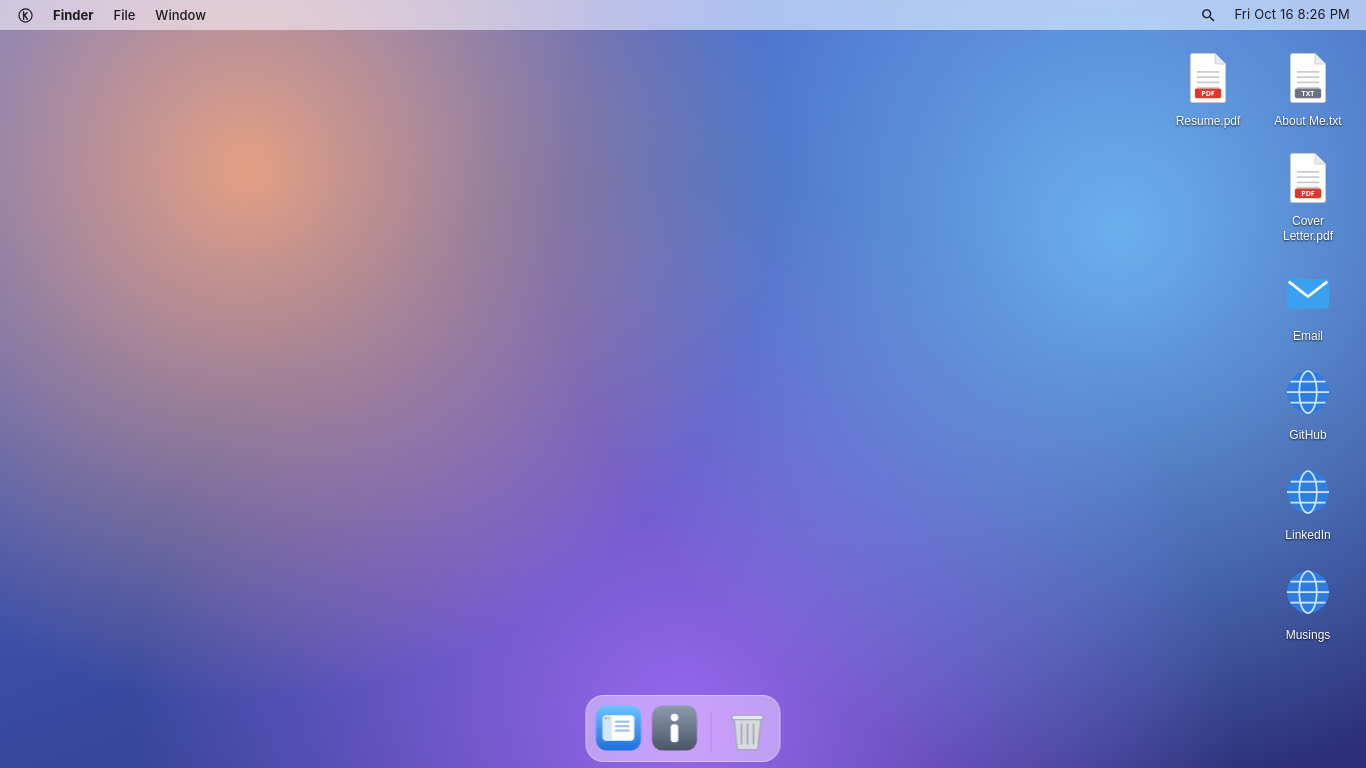
Test: DesktopShell › reports a failed reset
Click the button named "System menu": coordinates (26, 15) 8,3 -> 43,27
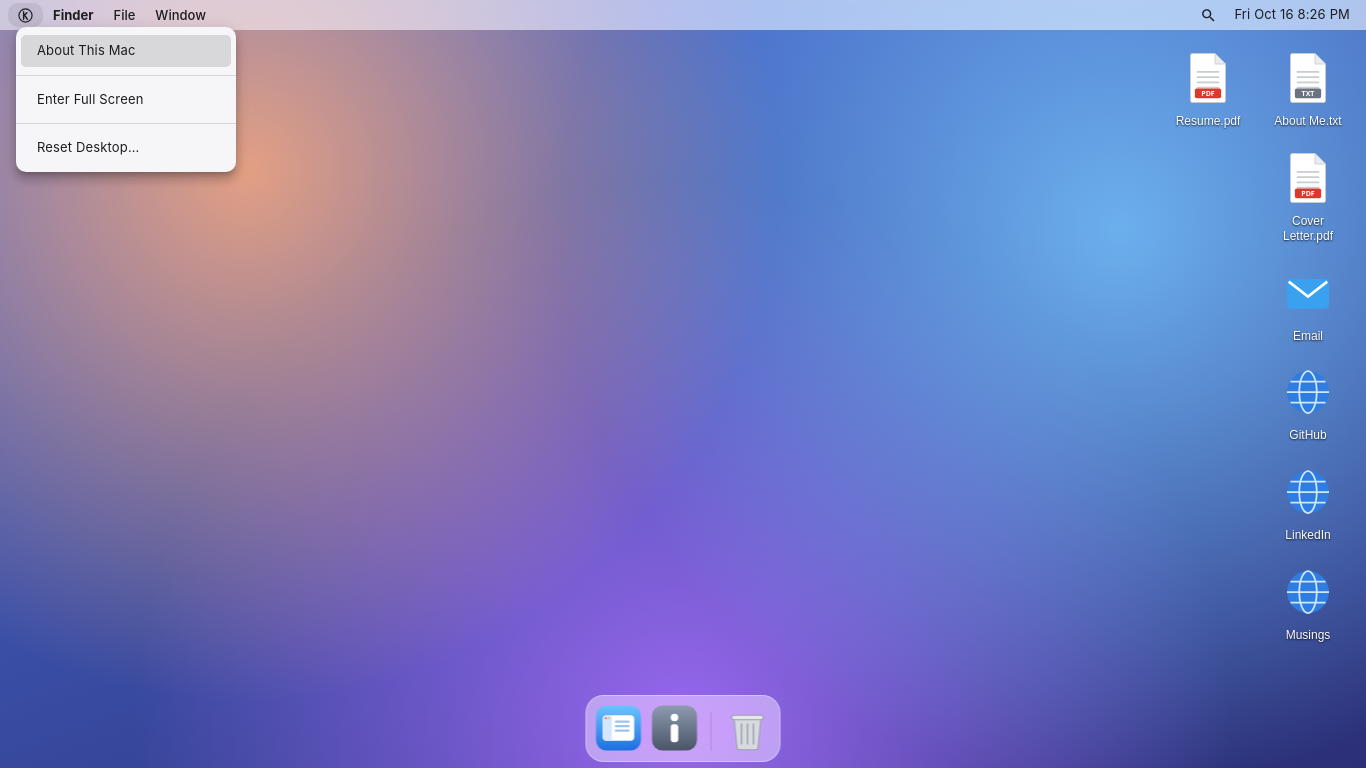
Click the menu item "Reset Desktop…": coordinates (88, 147) 37,139 -> 139,155
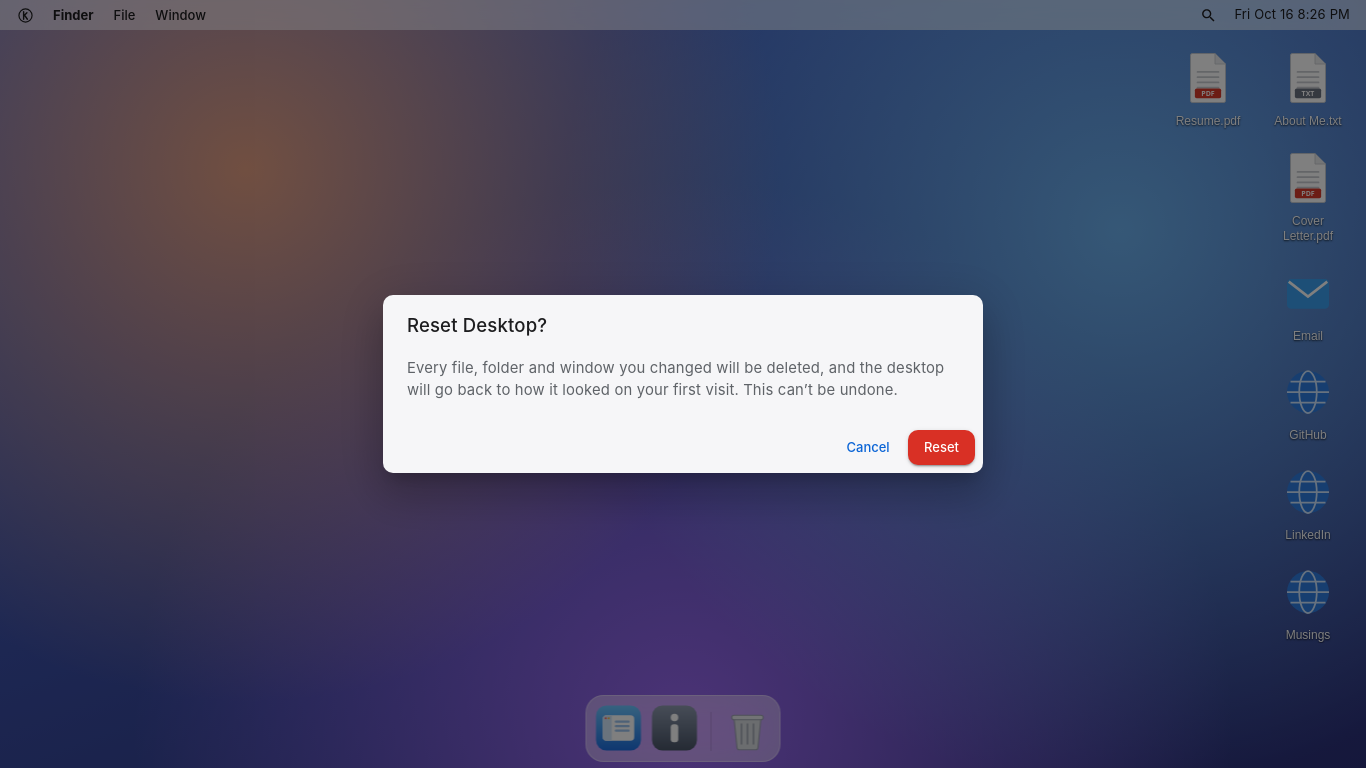
Click the button "Reset": coordinates (942, 447) 908,430 -> 975,465
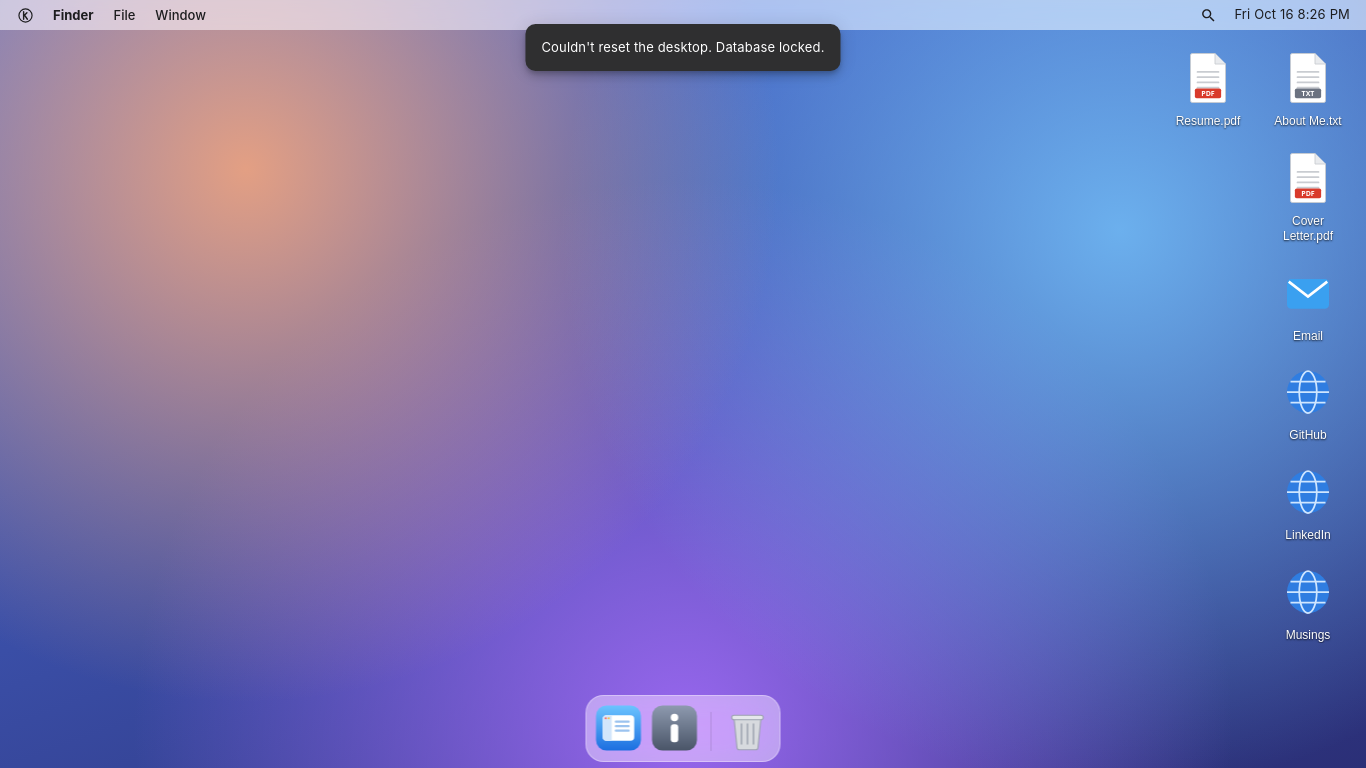
Check: the text "Couldn't reset the desktop. Database locked." is shown, box 542,39 -> 825,55
